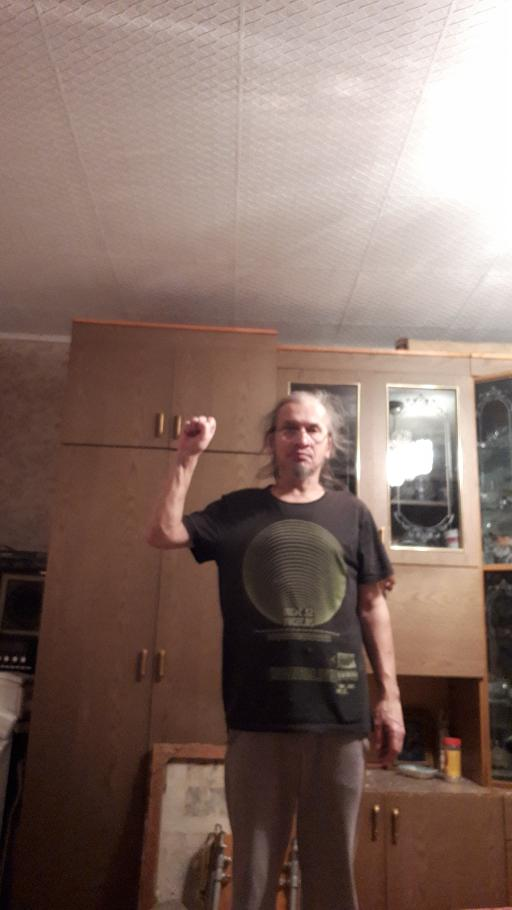fist: (177, 414, 217, 454)
no_gesture: (371, 697, 408, 766)
